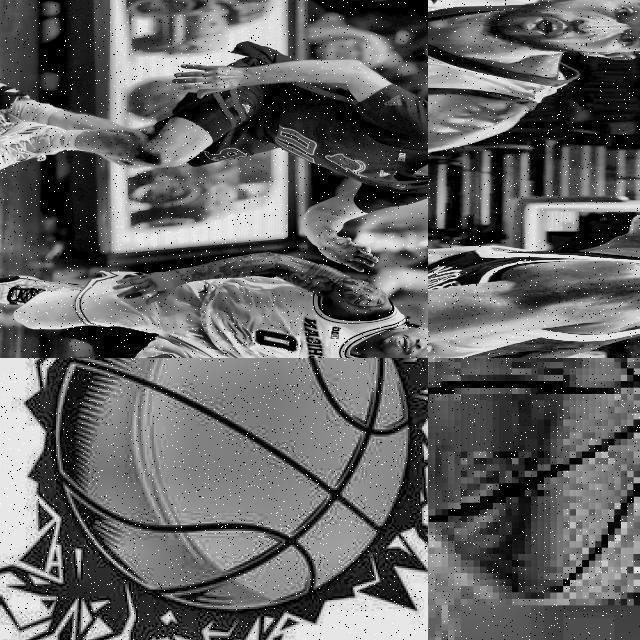Basketball: (51, 358, 409, 613), (428, 358, 640, 599)
